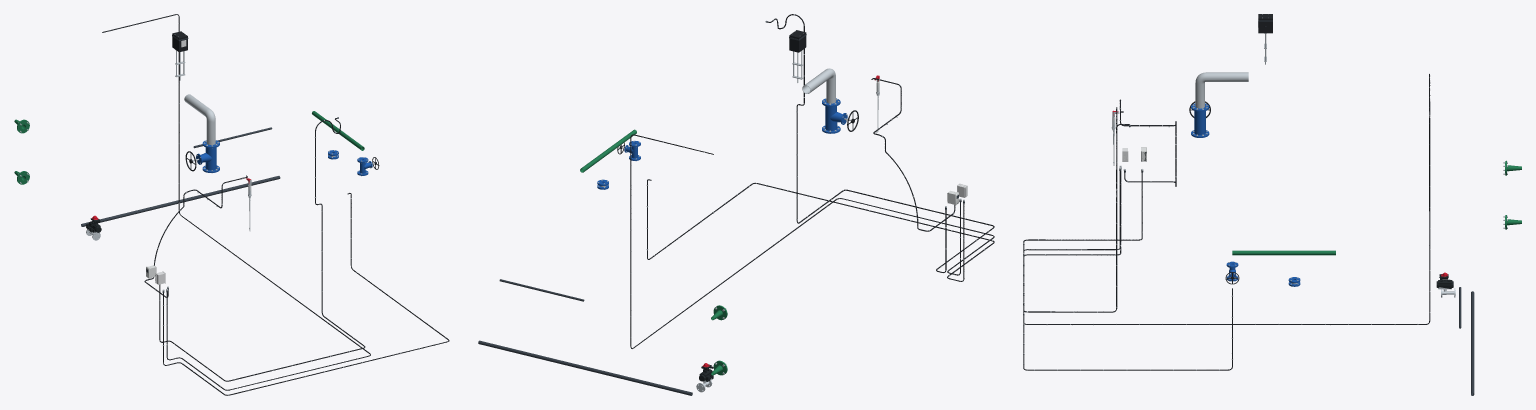
3 renders of one model, left to right at view 1: azimuth 30°, elevation 25°; view 2: azimuth 150°, elevation 25°; view 3: azimuth 270°, elevation 25°, orthographic. The views are drawn at different scales.
Parts seen in each view (by area): view 1: mod_eco_drive_cable / black, wiring_pressure_switch_3 / black, wiring_pump_1 / black, bottom_discharge / dark, steam_rise / steel, steam_manual / blue; view 2: mod_eco_drive_cable / black, wiring_pressure_switch_3 / black, wiring_pump_1 / black, bottom_discharge / dark, steam_rise / steel, steam_manual / blue; view 3: mod_eco_drive_cable / black, wiring_pressure_switch_3 / black, wiring_pump_1 / black, steam_rise / steel, pump_delivery / green, steam_manual / blue.
Part boxes in pixels (x1=…): mod_eco_drive_cable / black: x1=102, y1=14, x2=370, y2=390; wiring_pressure_switch_3 / black: x1=159, y1=118, x2=365, y2=381; wiring_pump_1 / black: x1=163, y1=193, x2=449, y2=395; bottom_discharge / dark: x1=81, y1=176, x2=280, y2=226; steam_rise / steel: x1=184, y1=94, x2=215, y2=144; steam_manual / blue: x1=196, y1=140, x2=219, y2=172; mod_eco_drive_cable / black: x1=630, y1=134, x2=994, y2=348; wiring_pressure_switch_3 / black: x1=767, y1=14, x2=994, y2=272; wiring_pump_1 / black: x1=647, y1=179, x2=994, y2=281; bottom_discharge / dark: x1=478, y1=340, x2=692, y2=395; steam_rise / steel: x1=802, y1=68, x2=835, y2=103; steam_manual / blue: x1=822, y1=98, x2=847, y2=133; mod_eco_drive_cable / black: x1=1023, y1=74, x2=1430, y2=324; wiring_pressure_switch_3 / black: x1=1023, y1=107, x2=1142, y2=312; wiring_pump_1 / black: x1=1023, y1=171, x2=1232, y2=370; steam_rise / steel: x1=1195, y1=72, x2=1248, y2=108; pump_delivery / green: x1=1232, y1=250, x2=1335, y2=255; steam_manual / blue: x1=1191, y1=103, x2=1209, y2=137.
Bounding box in the file's own units: 4.24 × 3.75 × 6.03.
